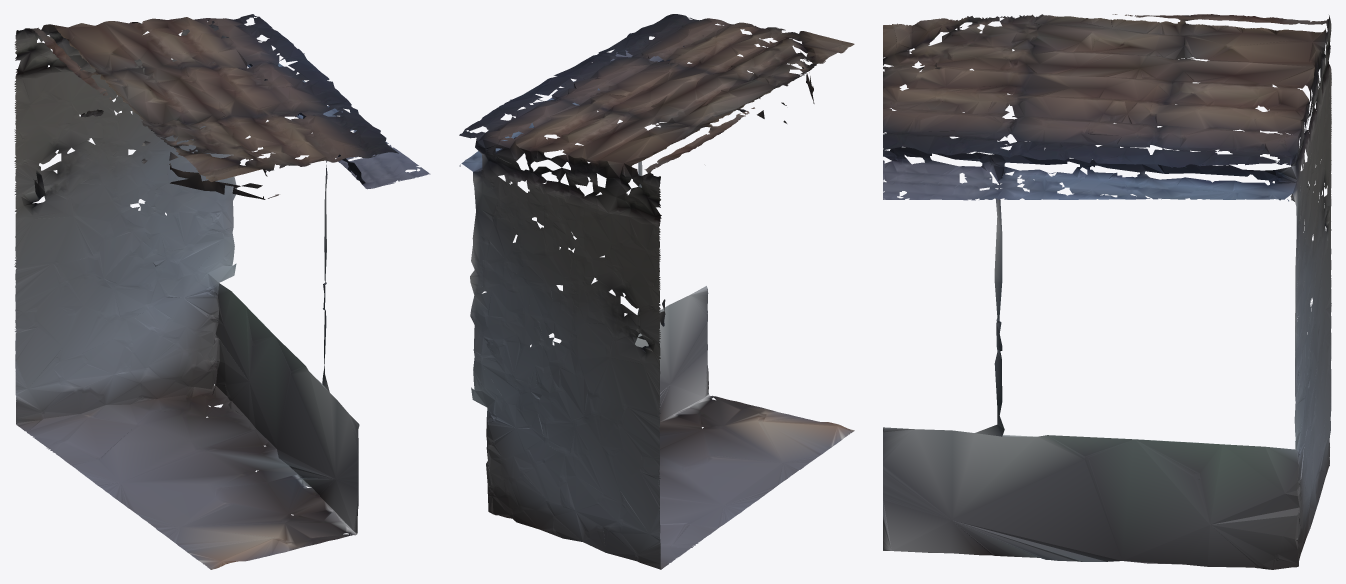
The model's file is coarse.glb.
The picture shows the model from 3 angles, left to right: view 1: azimuth 30°, elevation 25°; view 2: azimuth 150°, elevation 25°; view 3: azimuth 270°, elevation 25°; orthographic projection. The views are drawn at different scales.
Bounding box in the file's own units: 2.07 × 3.57 × 3.18.
